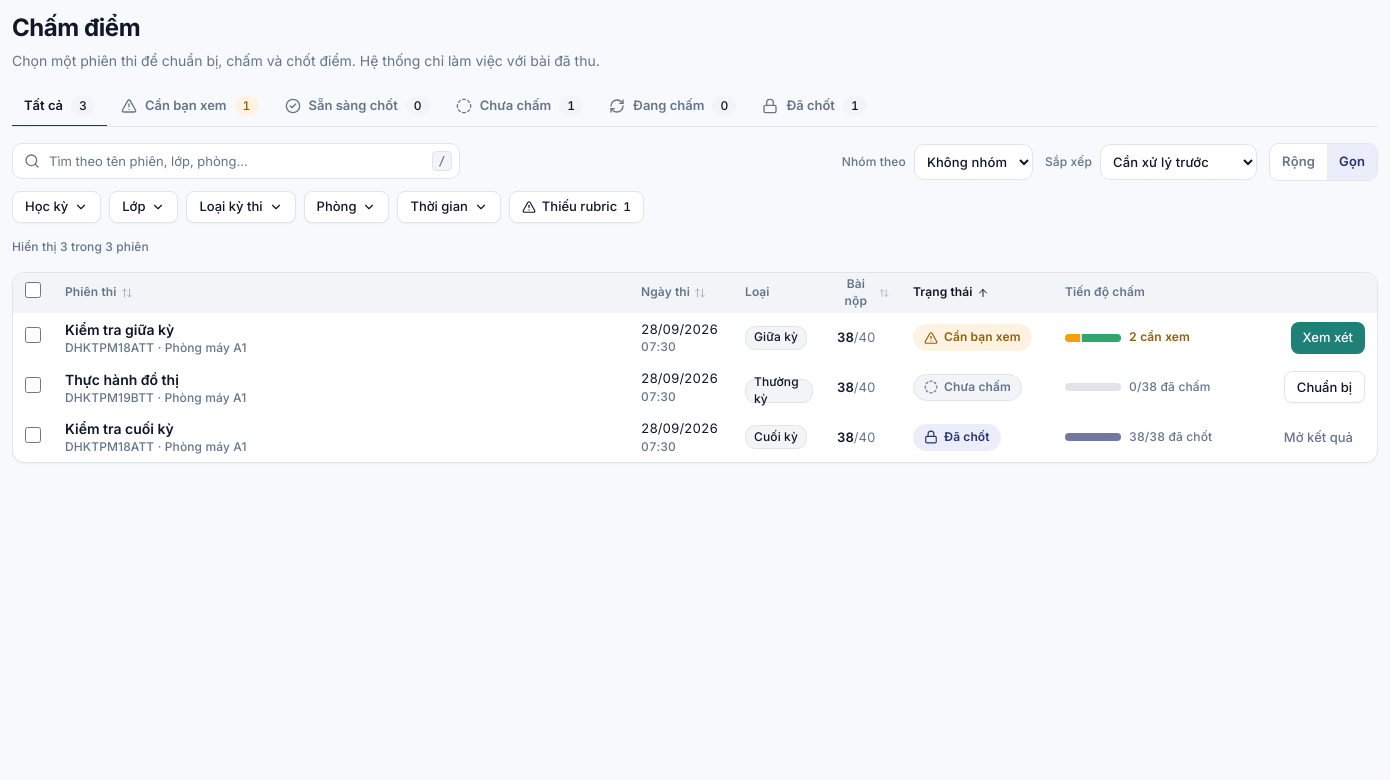
Scenario: SessionList — bulk bar › offers "Bắt đầu chấm" for sessions that are not graded and have rubric + question, counted
Click the checkbox named "Chọn phiên Kiểm tra giữa kỳ" at (33,335), box [25,327,41,343]
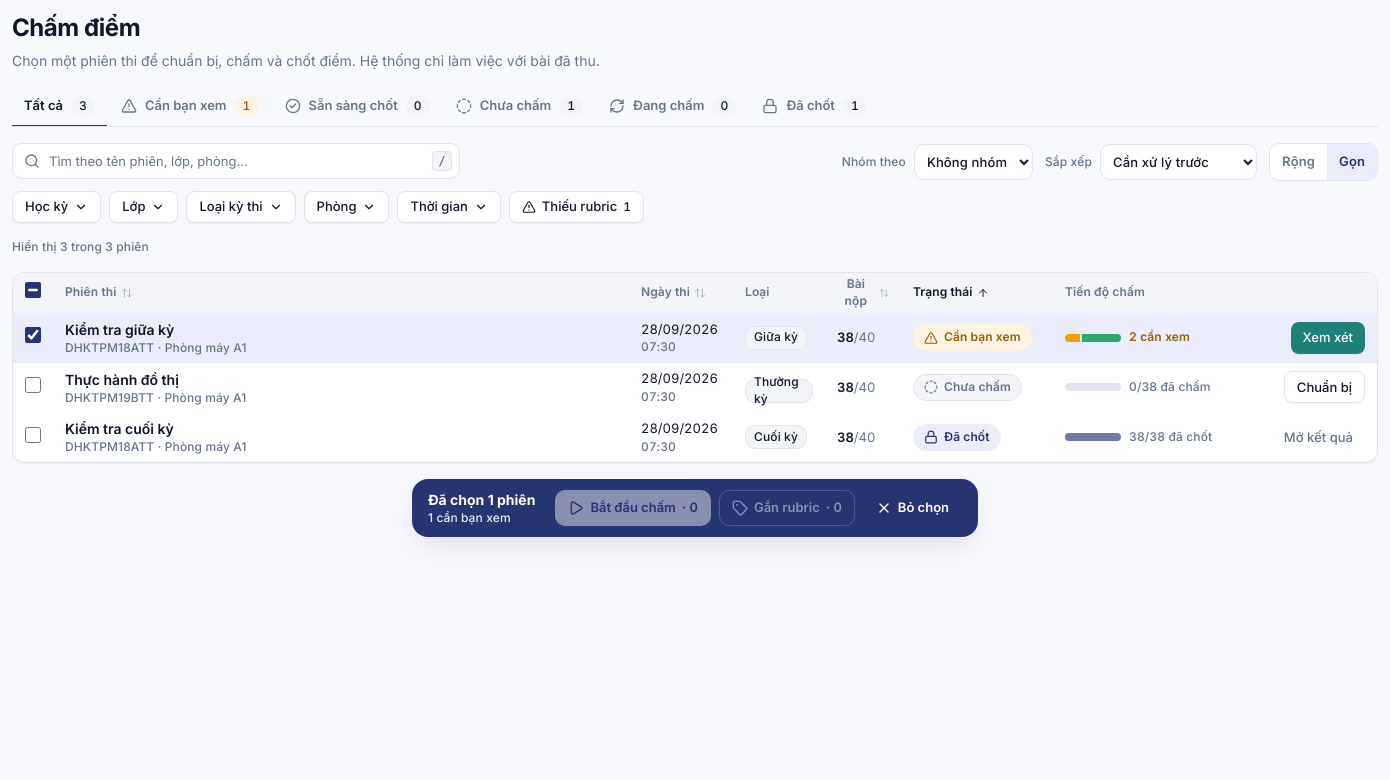
Click the checkbox named "Chọn phiên Thực hành đồ thị" at (33,385), box [25,377,41,393]
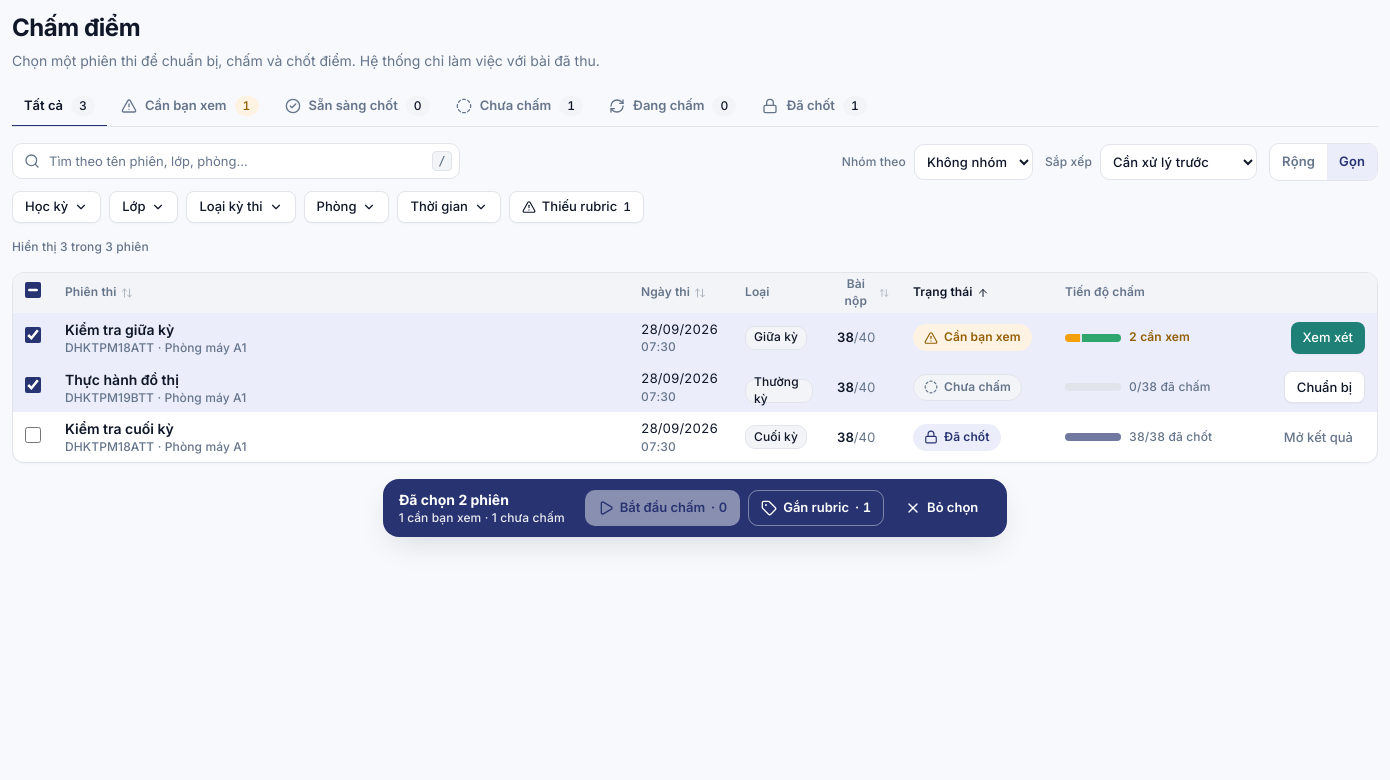
Check: the button "Gắn rubric · 1" is shown, box [748,490,884,526]
